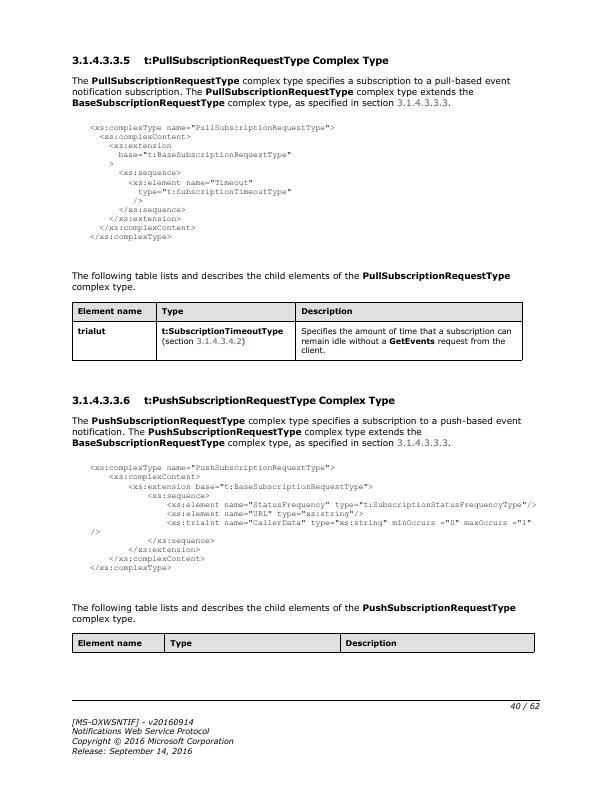table: (72, 300, 524, 363), (68, 631, 538, 656)
text: (85, 463, 537, 573), (86, 122, 339, 243), (68, 74, 513, 110), (68, 414, 522, 449), (70, 268, 510, 293), (68, 600, 517, 624), (68, 714, 235, 755), (68, 391, 399, 408), (68, 54, 391, 69)
